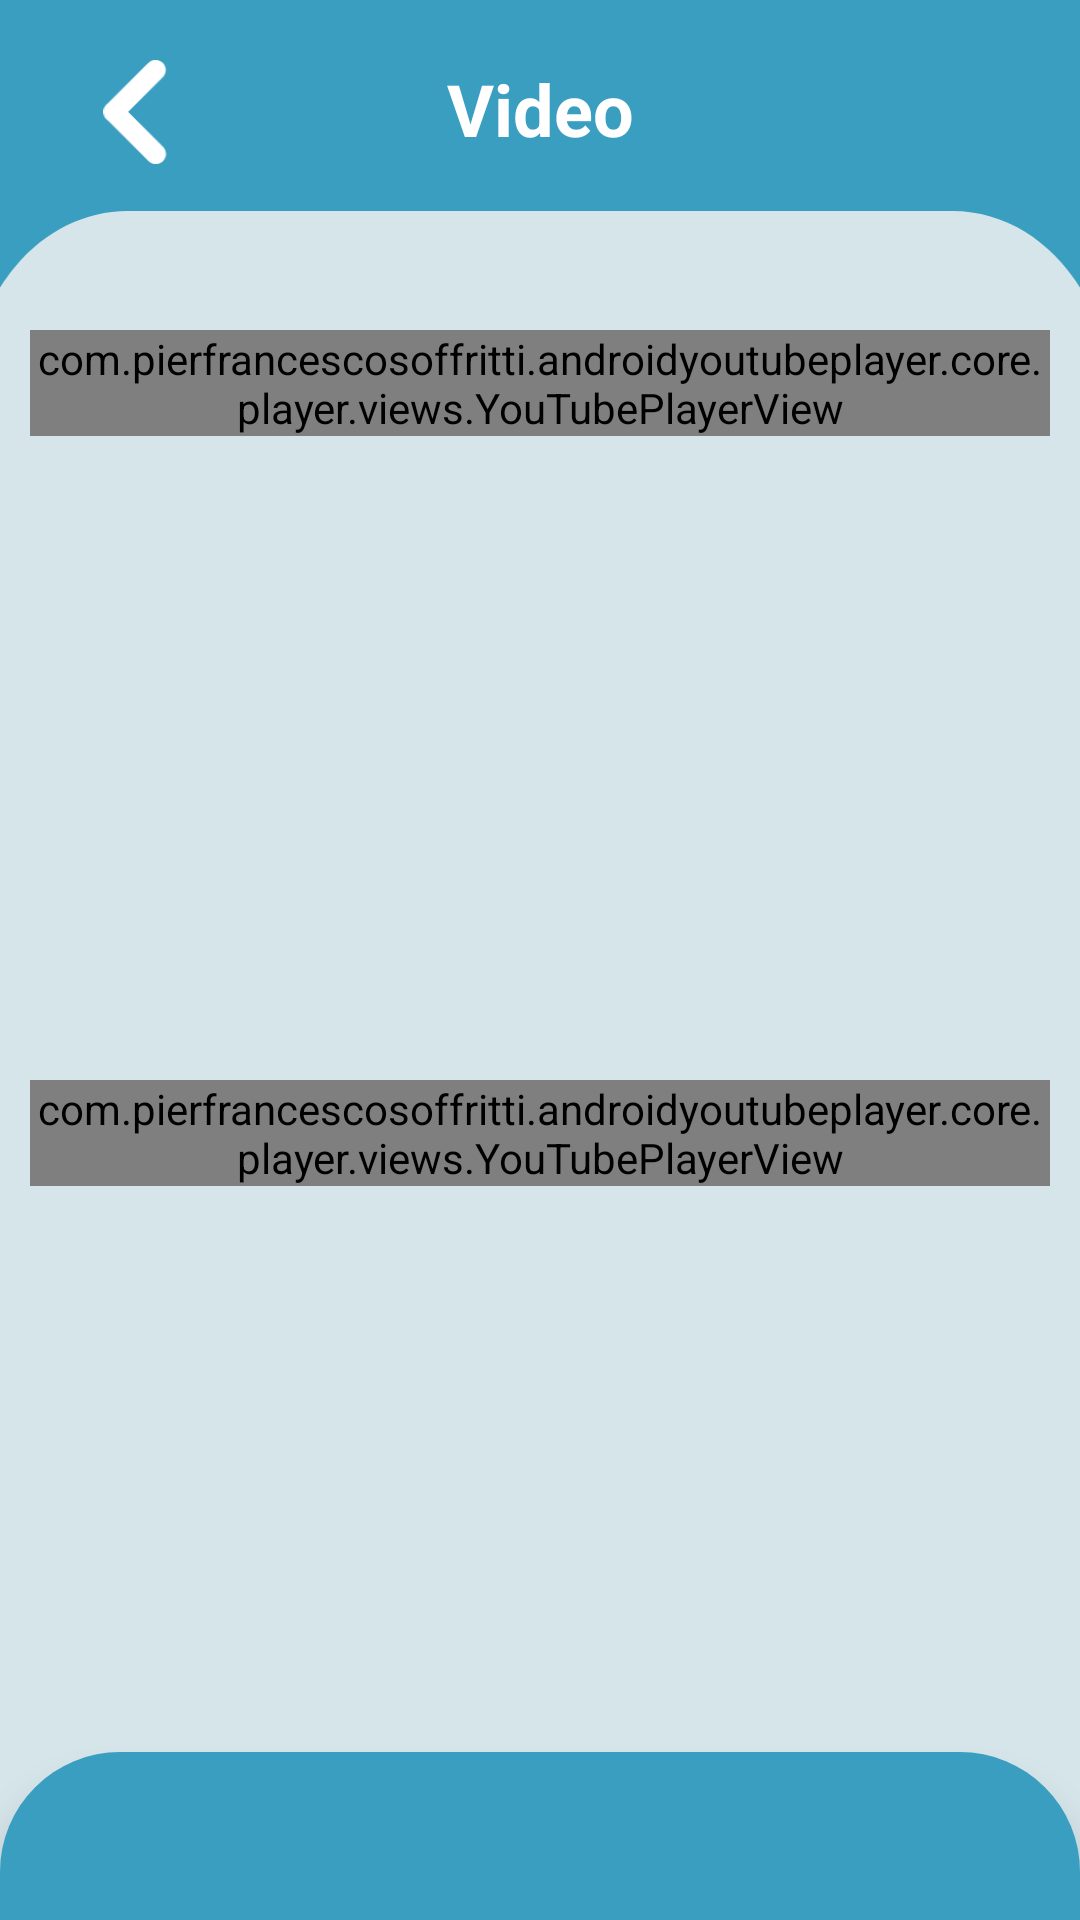

Where to tap for icons on this 1080x1920 app screen, as (x,y):
back: (135,112)
